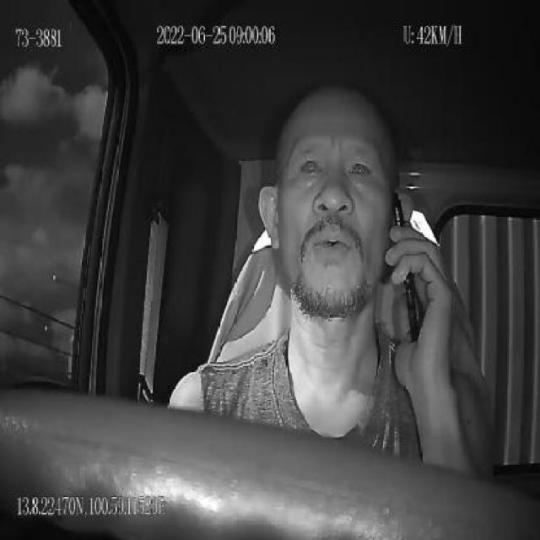phone: (390, 189, 420, 348)
